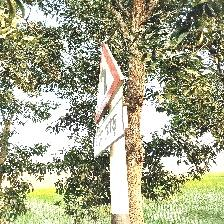Left-Turn: (87, 37, 131, 162)
